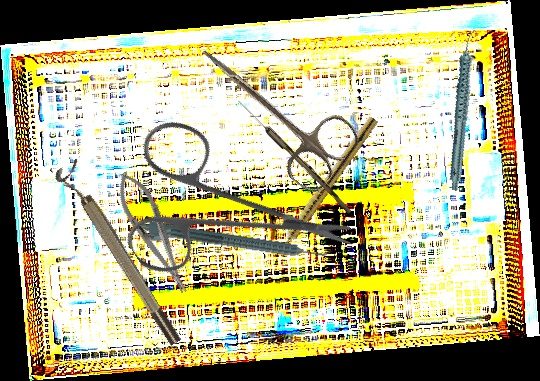Fixation Ring: (52, 158, 185, 353)
Handpiece: (271, 113, 379, 259), (417, 27, 510, 192), (132, 217, 329, 271)
Iris Scissors: (82, 68, 359, 347), (175, 22, 365, 198)
Needle Holder: (107, 165, 199, 301)
Surgical Spoon: (234, 97, 355, 215)
